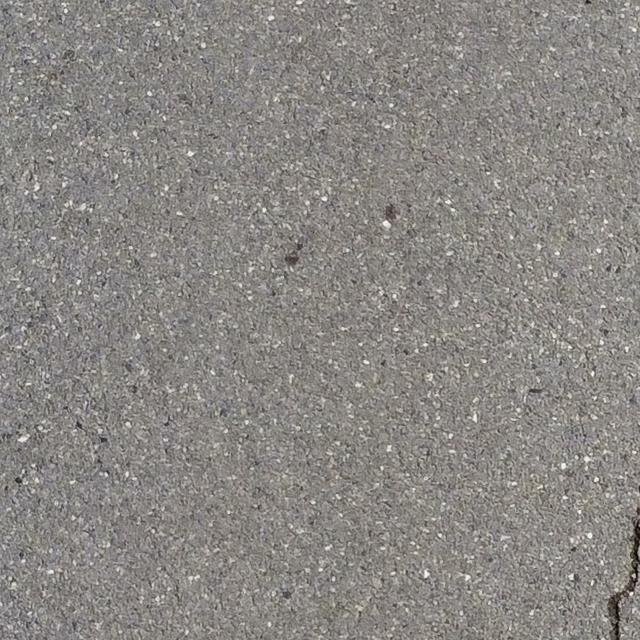LongitudinalCrack: (607, 504, 640, 640)
